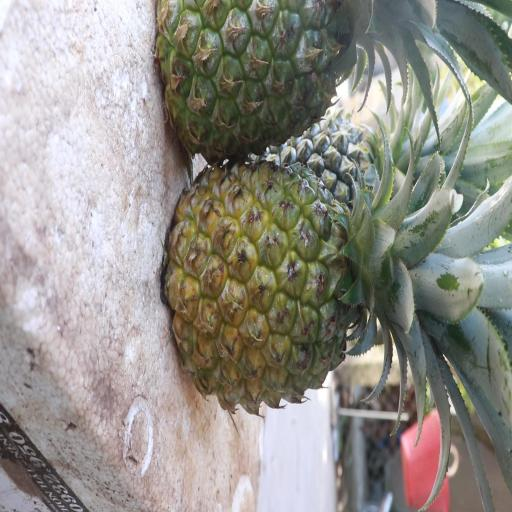------------------------------: (157, 0, 380, 150)
Pineapple - v8 v1: (176, 156, 408, 425)
